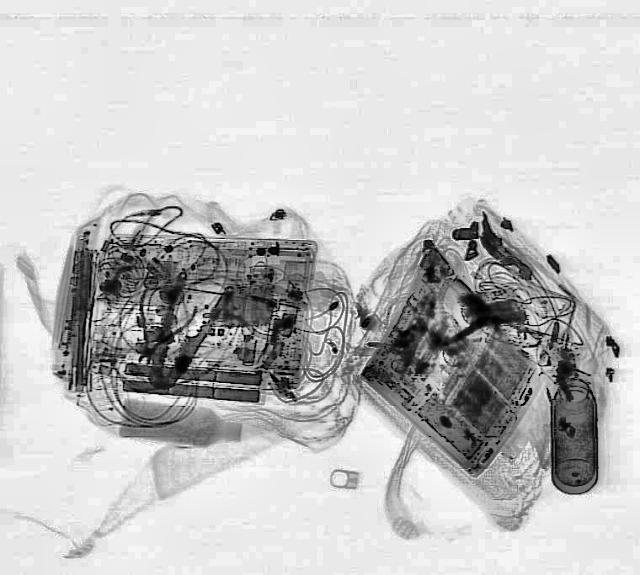Pliers: (125, 269, 237, 398)
